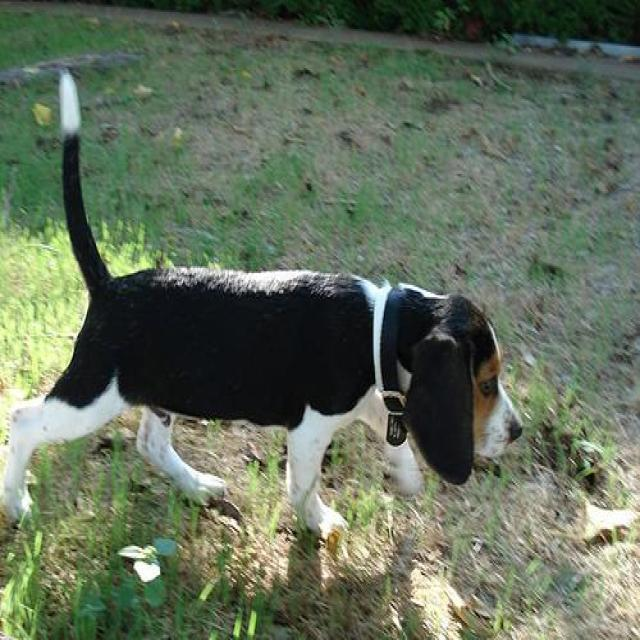relax: (26, 58, 524, 569)
